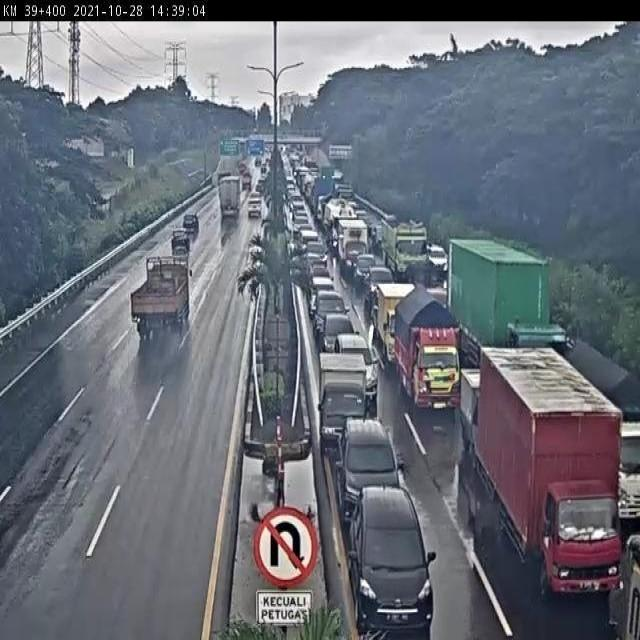Car: (345, 483, 435, 637), (336, 420, 404, 523), (333, 328, 381, 406), (318, 312, 362, 360), (314, 289, 351, 342), (364, 263, 394, 310), (308, 273, 337, 316), (352, 252, 378, 289), (306, 262, 335, 289), (304, 240, 329, 268), (427, 243, 449, 272), (170, 228, 190, 255), (297, 229, 320, 252), (301, 252, 325, 274), (292, 214, 310, 237), (182, 213, 199, 236), (247, 196, 262, 218), (298, 222, 316, 235), (257, 172, 268, 183)
Truck: (471, 342, 624, 600), (448, 238, 575, 370), (561, 337, 640, 521), (392, 283, 466, 411), (316, 351, 369, 451), (130, 256, 193, 340), (376, 280, 422, 369), (380, 214, 429, 279), (457, 362, 489, 450), (333, 215, 369, 279), (322, 198, 356, 245), (312, 174, 336, 220), (218, 176, 242, 220), (360, 212, 380, 248), (216, 172, 232, 198), (335, 182, 355, 201), (319, 164, 336, 180), (241, 171, 251, 190), (238, 160, 248, 175), (255, 157, 262, 167)
